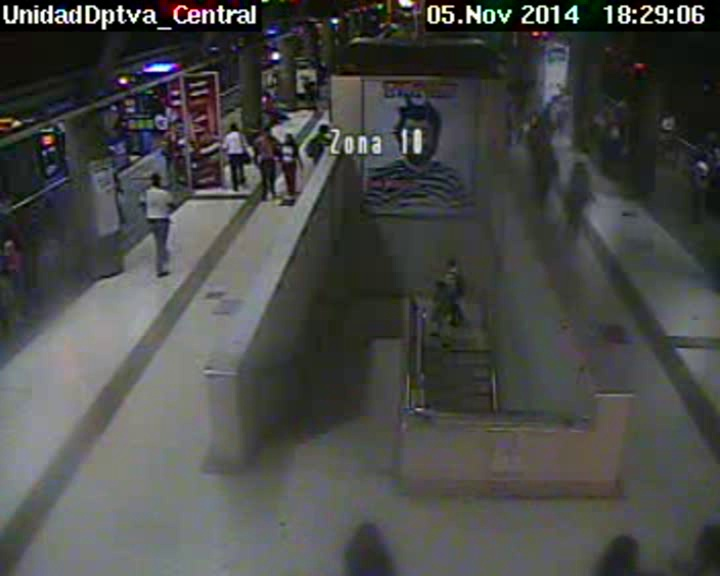person: (349, 526, 380, 557), (573, 161, 587, 175), (5, 223, 18, 238), (149, 172, 161, 186), (695, 149, 707, 163), (260, 124, 273, 136), (528, 115, 541, 126), (448, 257, 459, 269), (284, 132, 295, 144), (318, 124, 331, 134), (434, 280, 445, 291), (228, 121, 239, 132), (272, 84, 279, 91), (264, 91, 271, 97), (303, 78, 309, 84)
